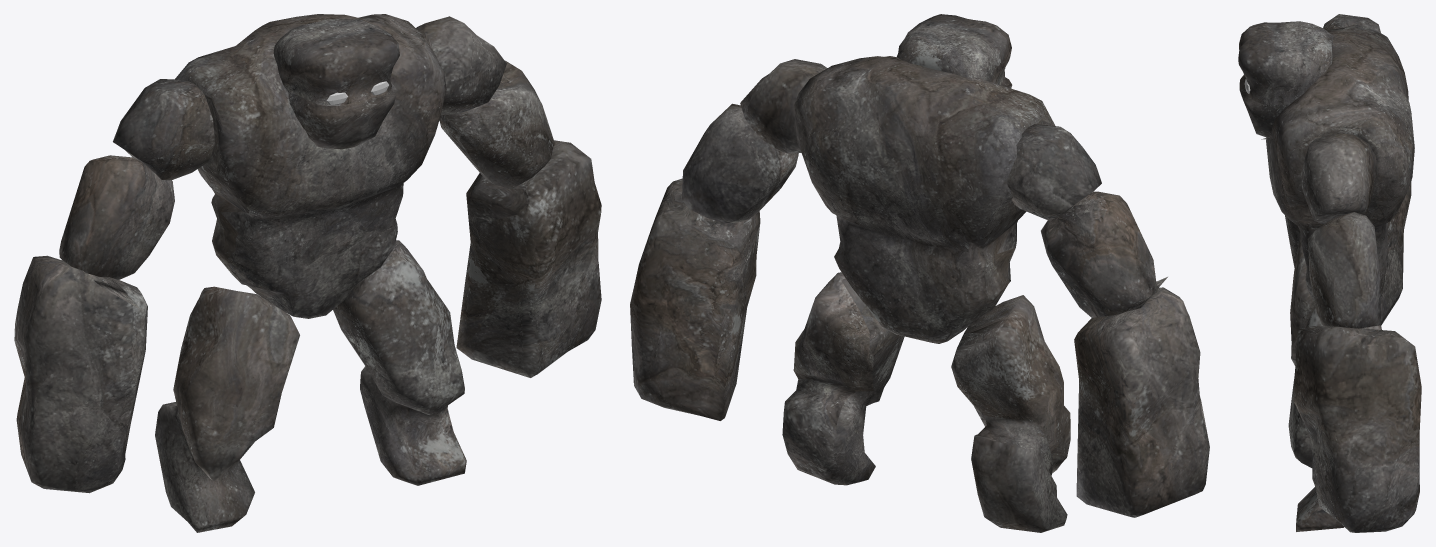
Rendered from jump_000002.obj.
The picture shows the model from 3 angles, left to right: view 1: azimuth 30°, elevation 25°; view 2: azimuth 150°, elevation 25°; view 3: azimuth 270°, elevation 25°; orthographic projection. The views are drawn at different scales.
Visible parts, largest first — view 1: hands&leg.001_ice.003, torso.001_ice.005, head.001_ice.004; view 2: hands&leg.001_ice.003, torso.001_ice.005, head.001_ice.004; view 3: hands&leg.001_ice.003, torso.001_ice.005, head.001_ice.004.
Part boxes in pixels (x1=…): hands&leg.001_ice.003: x1=14, y1=16, x2=601, y2=532; torso.001_ice.005: x1=175, y1=14, x2=446, y2=318; head.001_ice.004: x1=273, y1=19, x2=399, y2=149; hands&leg.001_ice.003: x1=630, y1=59, x2=1209, y2=532; torso.001_ice.005: x1=794, y1=56, x2=1055, y2=343; head.001_ice.004: x1=897, y1=14, x2=1012, y2=88; hands&leg.001_ice.003: x1=1261, y1=14, x2=1421, y2=532; torso.001_ice.005: x1=1266, y1=24, x2=1414, y2=298; head.001_ice.004: x1=1238, y1=21, x2=1333, y2=138.
Size of the model in its own units: 11.9 by 9.41 by 3.53.
Materials: 2 (1 with a texture image).
